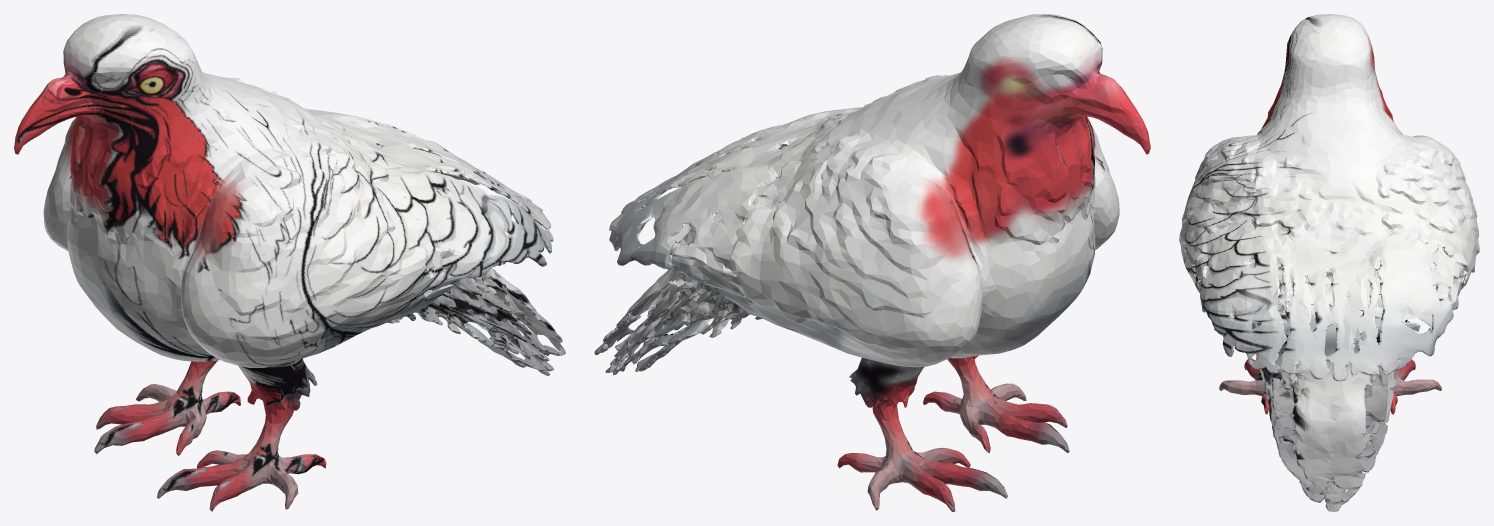
File: the_pigeon_elder_local.glb
3 renders of one model, left to right at view 1: azimuth 30°, elevation 25°; view 2: azimuth 150°, elevation 25°; view 3: azimuth 270°, elevation 25°, orthographic. The views are drawn at different scales.
Parts seen in each view (by area): view 1: geometry_0; view 2: geometry_0; view 3: geometry_0.
Part boxes in pixels (x1,y1,x2,y2): geometry_0: (14, 14, 565, 511); geometry_0: (594, 14, 1150, 511); geometry_0: (1179, 14, 1479, 511).
Bounding box in the file's own units: 3.22 × 2.6 × 2.09.
Materials: 1 (1 with a texture image).
